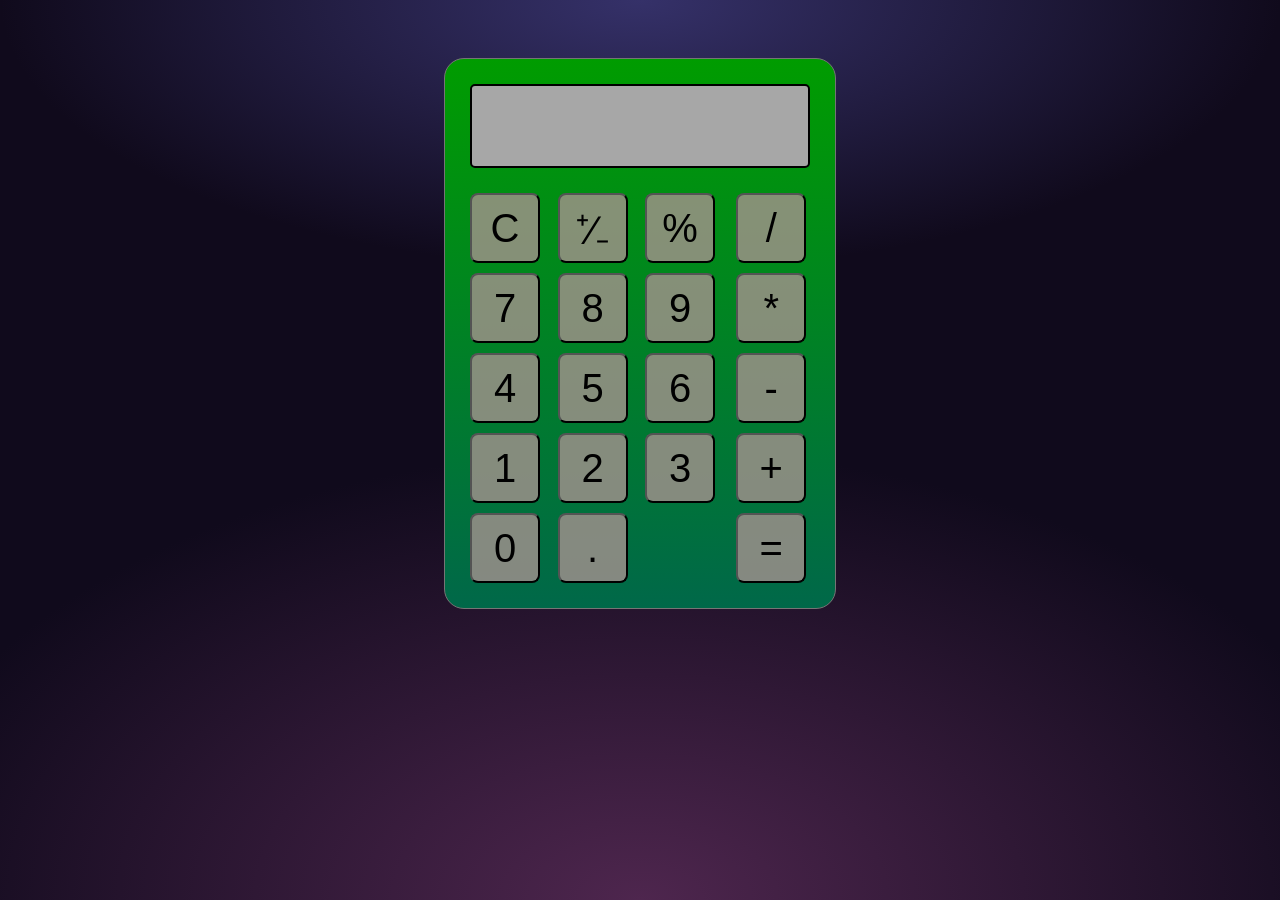
Test case: Calculator functions tests › Decimal
What coordinates should you click on to do the following:
click the button "4"
I would click on:
 (505, 388)
Its box is [470,353,540,423].
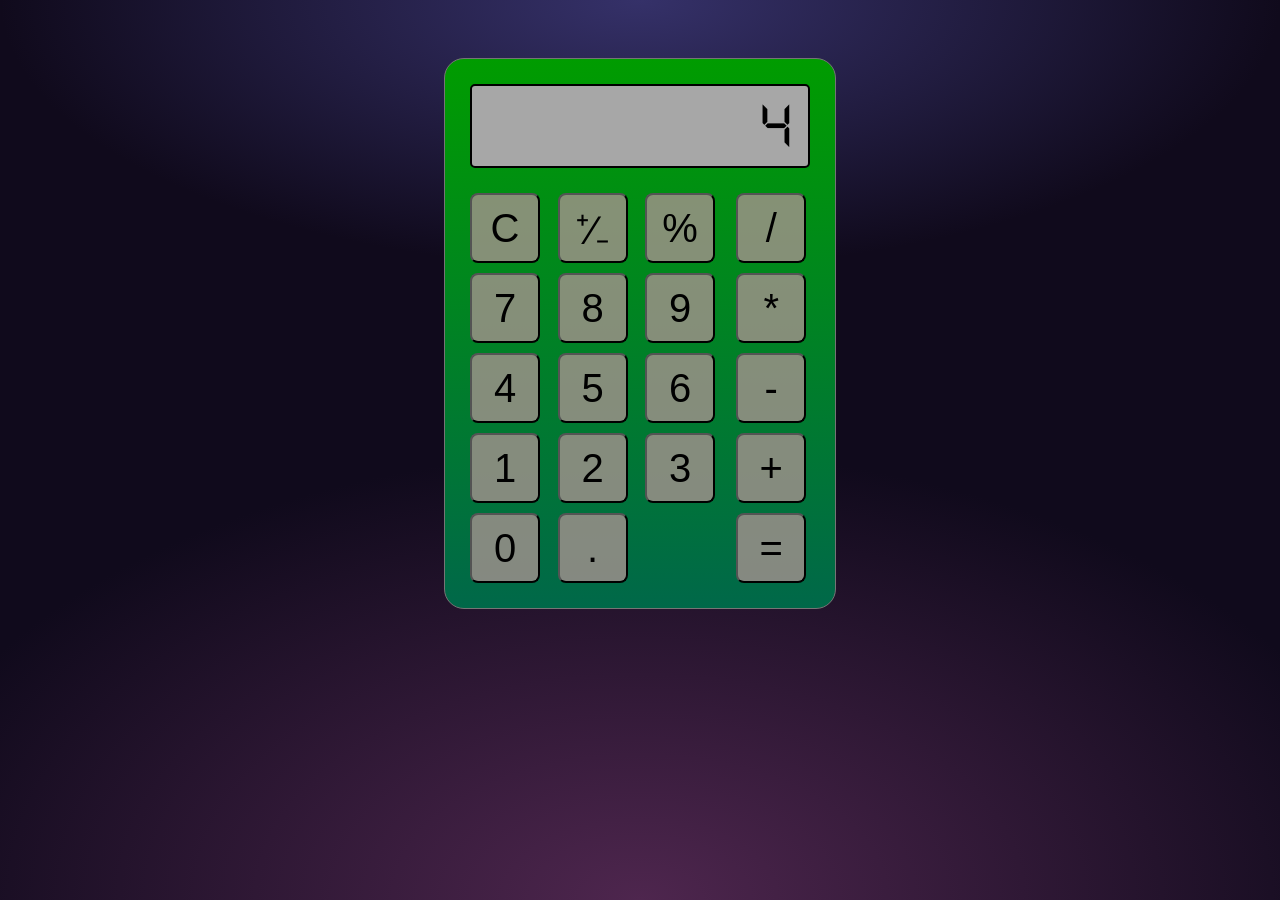
What coordinates should you click on to do the following:
click the button "."
I would click on:
 (592, 548)
Its box is [558,513,628,583].
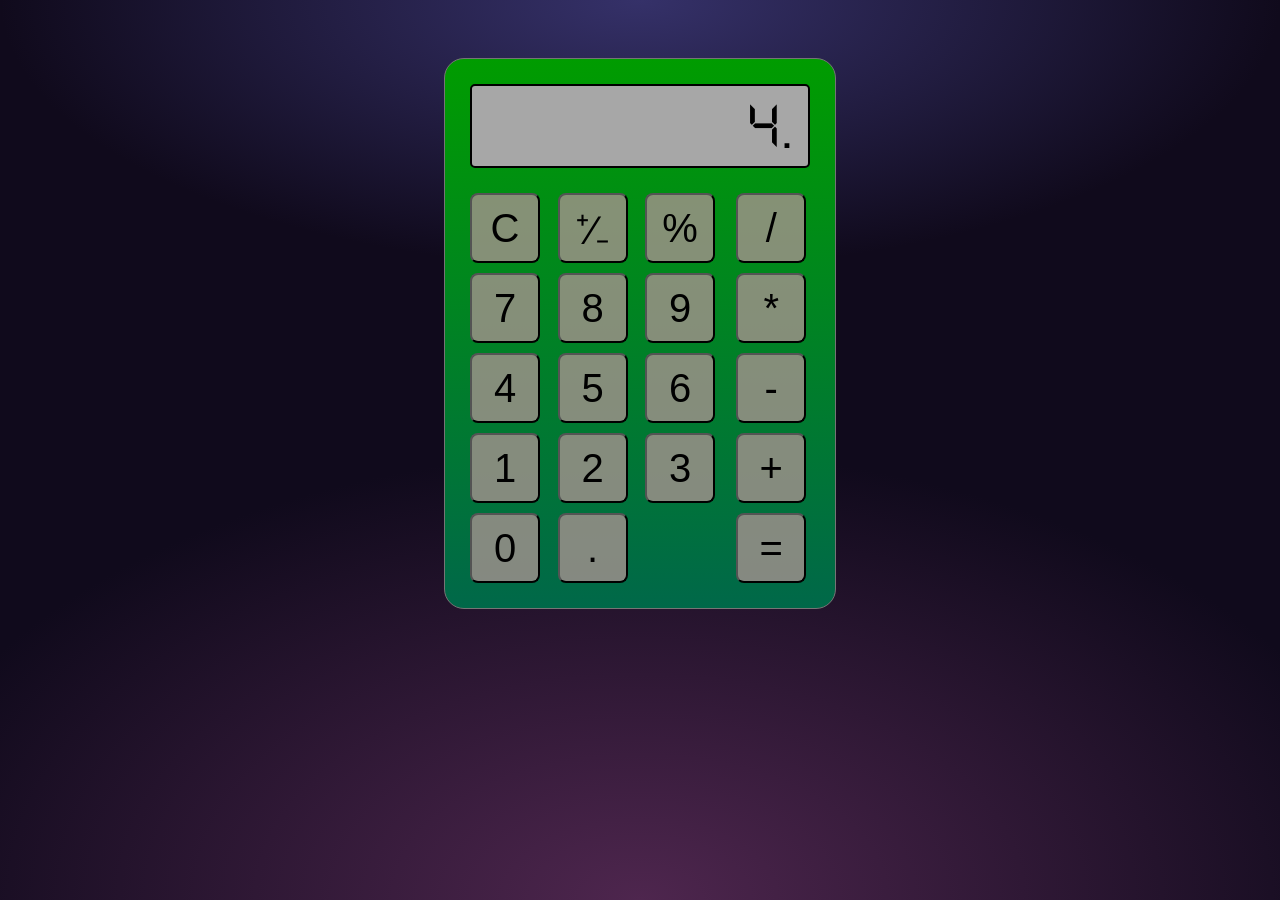
What coordinates should you click on to do the following:
click the button "5"
I would click on:
 (592, 388)
Its box is [558,353,628,423].
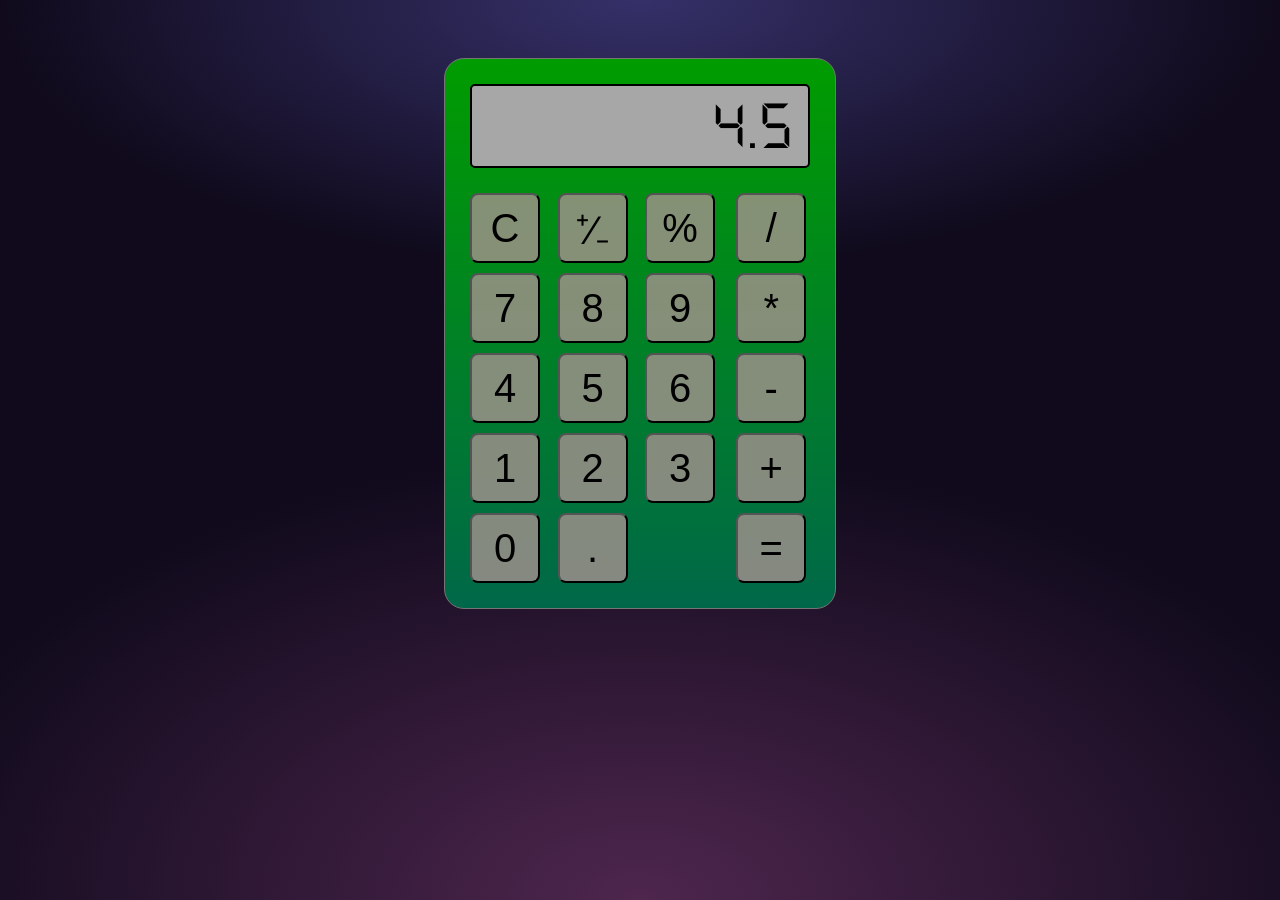
What coordinates should you click on to do the following:
click the button "2"
I would click on:
 (592, 468)
Its box is [558,433,628,503].
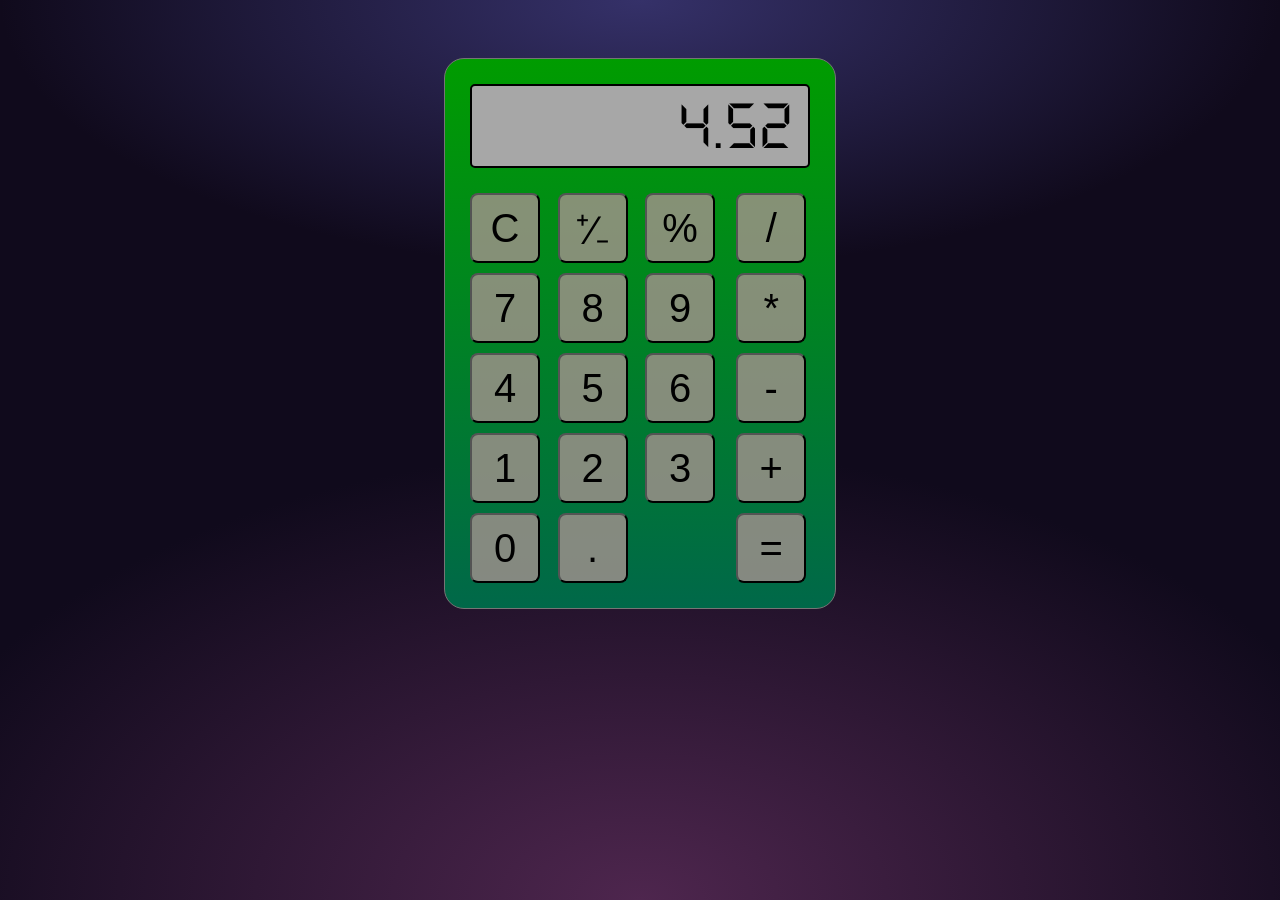
Now the text "4.52" is shown, box [678,91,793,161]
